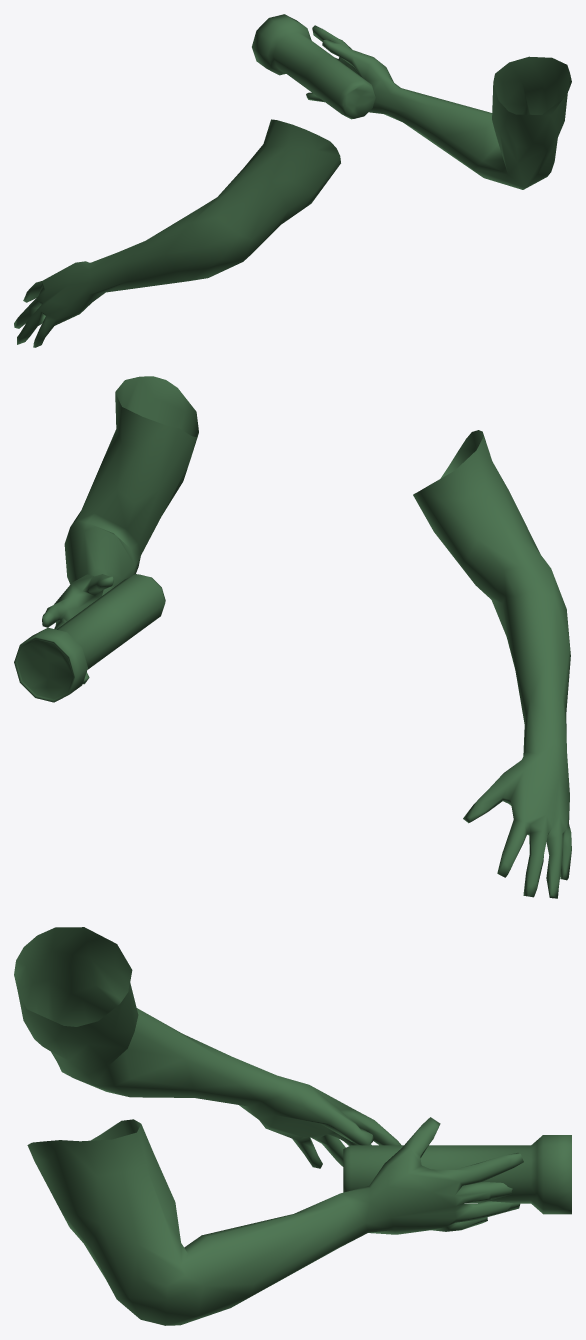
The model's file is arms.obj.
3 renders of one model, top to bottom at view 1: azimuth 30°, elevation 25°; view 2: azimuth 150°, elevation 25°; view 3: azimuth 270°, elevation 25°, orthographic. The views are drawn at different scales.
Parts seen in each view (by area): view 1: caucasian_male_1:Body; view 2: caucasian_male_1:Body; view 3: caucasian_male_1:Body.
Part boxes in pixels (<box>): caucasian_male_1:Body: <box>14,14,571,347</box>; caucasian_male_1:Body: <box>14,376,571,898</box>; caucasian_male_1:Body: <box>14,927,571,1325</box>.
Size of the model in its own units: 0.8606 by 0.4573 by 0.6493.
